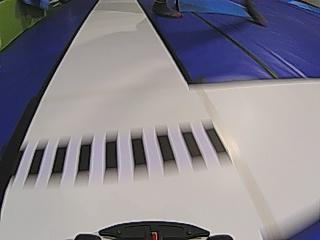CrossWalk: (5, 115, 241, 188)
